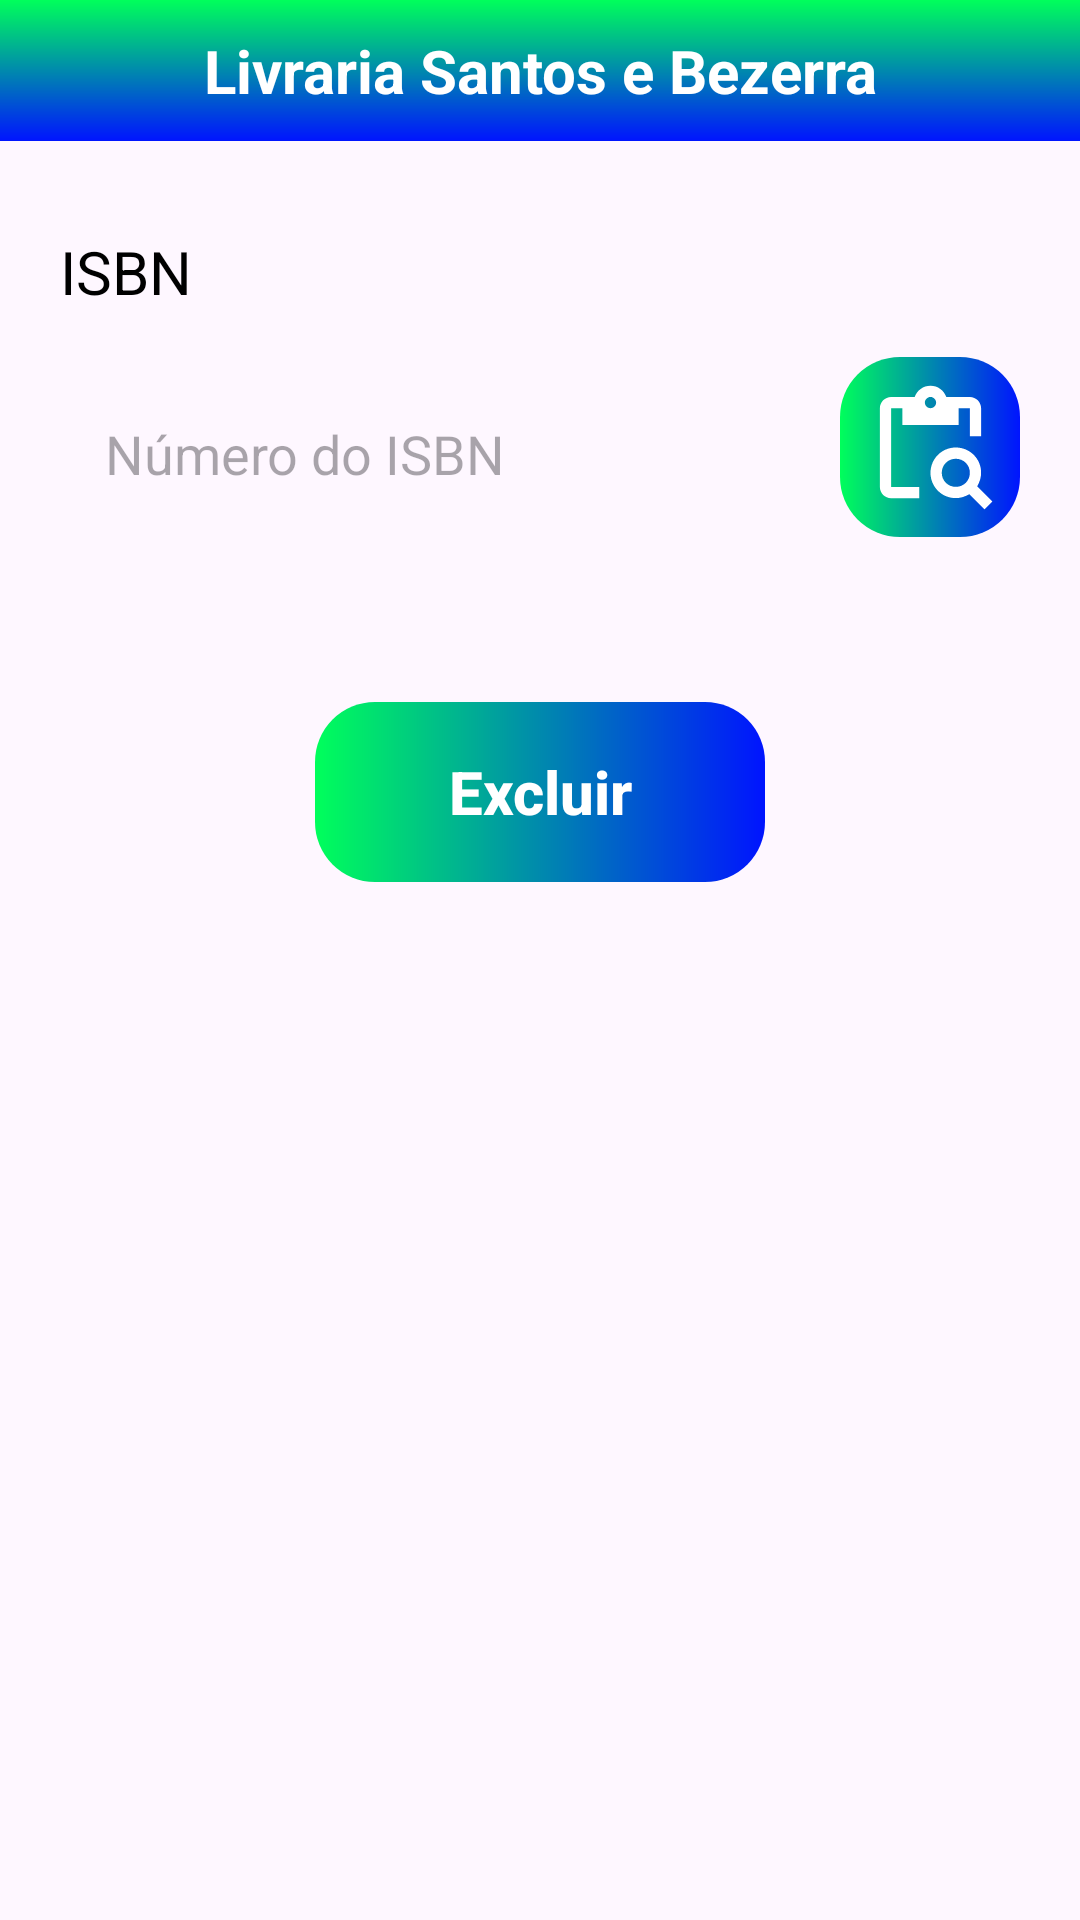

Screen size 1080 × 1920. Icon name, then its box in pixels as detection(x1, y1, x2, y2):
search: detection(840, 357, 1020, 537)
